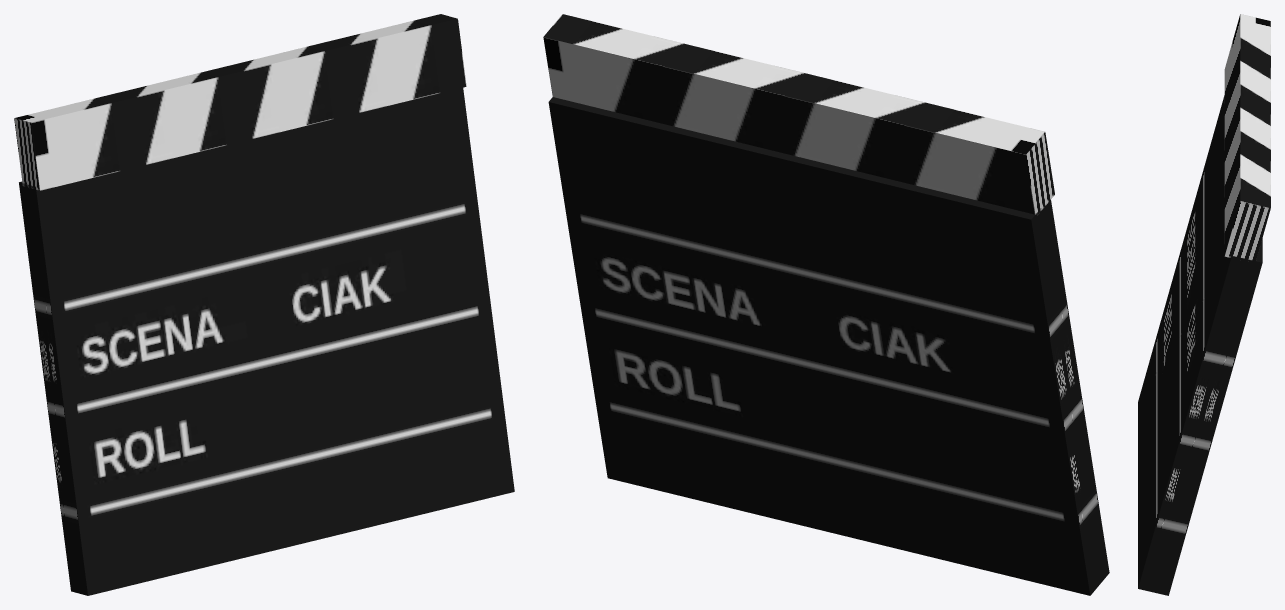
The model's file is ciak.glb.
The picture shows the model from 3 angles, left to right: view 1: azimuth 30°, elevation 25°; view 2: azimuth 150°, elevation 25°; view 3: azimuth 270°, elevation 25°; orthographic projection. The views are drawn at different scales.
Size of the model in its own units: 0.28 by 0.2756 by 0.084.
Materials: 2 (2 with a texture image).
